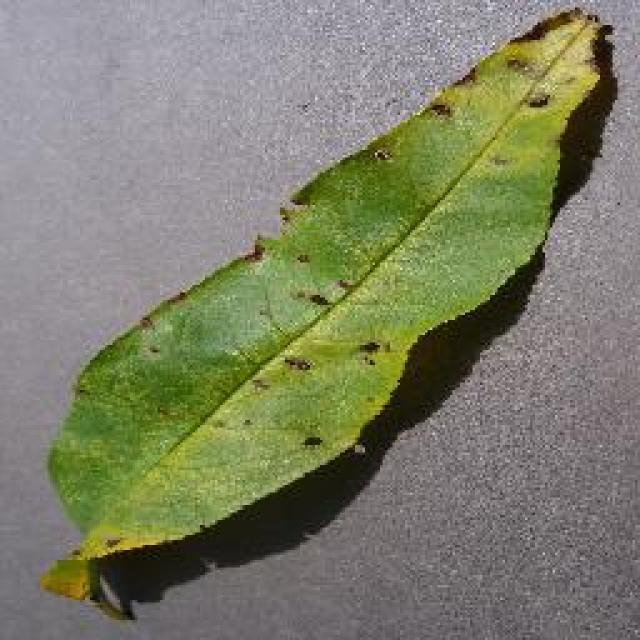Peach_Bacterial_Spot: (195, 135, 570, 498)
